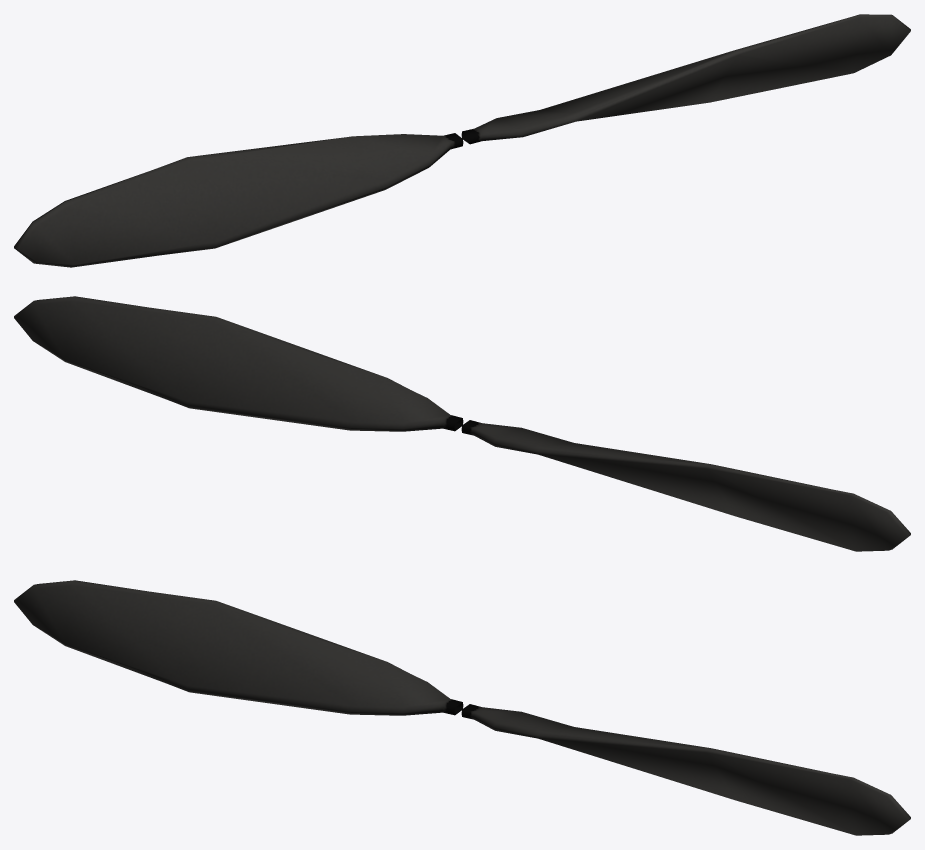
File: PalesArrieres.FBX
3 views of the same model, one above another, from view 1: azimuth 30°, elevation 25°; view 2: azimuth 150°, elevation 25°; view 3: azimuth 330°, elevation 25° (orthographic).
Parts seen in each view (by area): view 1: PaleArrieres; view 2: PaleArrieres; view 3: PaleArrieres.
Part boxes in pixels (x1,y1,x2,y2): PaleArrieres: (14,14,910,267); PaleArrieres: (14,296,910,551); PaleArrieres: (14,580,910,835).
Size of the model in its own units: 12.56 by 0.9556 by 0.9251.
